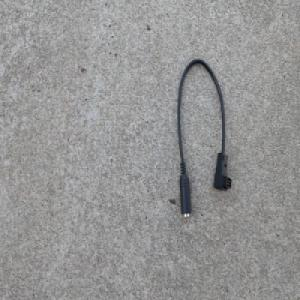Wire: (175, 57, 232, 223)
